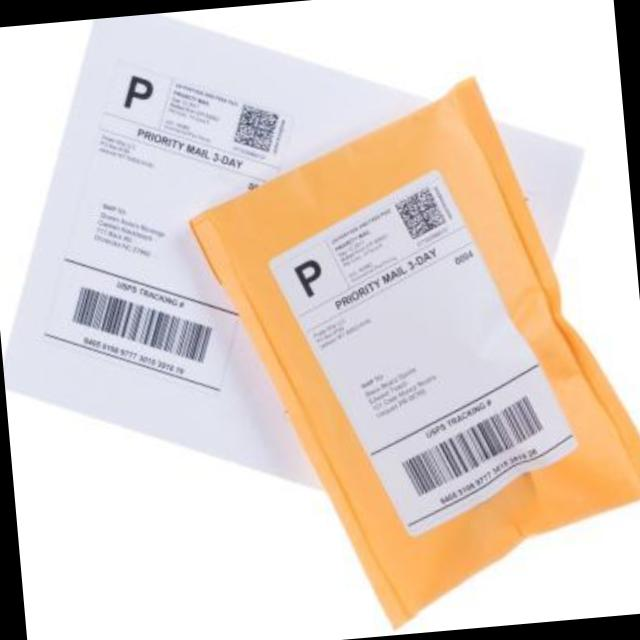mailer: (192, 80, 640, 623), (3, 14, 429, 488), (498, 120, 579, 256)
